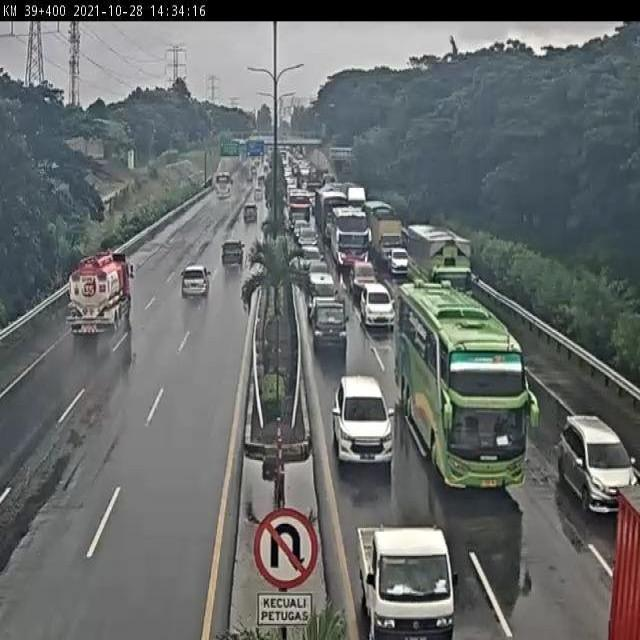big bus: (399, 283, 533, 497), (329, 206, 370, 274), (286, 190, 312, 230)
big truck: (67, 248, 135, 341), (411, 226, 472, 298), (319, 194, 350, 238)
car: (354, 522, 455, 640), (558, 411, 640, 521), (333, 374, 398, 474), (312, 298, 350, 351), (360, 284, 394, 332), (487, 324, 509, 385), (306, 273, 339, 308), (181, 262, 212, 298), (348, 260, 378, 295), (220, 236, 246, 272), (305, 260, 330, 287), (387, 246, 408, 274), (300, 244, 321, 269), (298, 230, 321, 250), (241, 202, 259, 226), (292, 219, 310, 240)
small truck: (368, 212, 404, 264)
